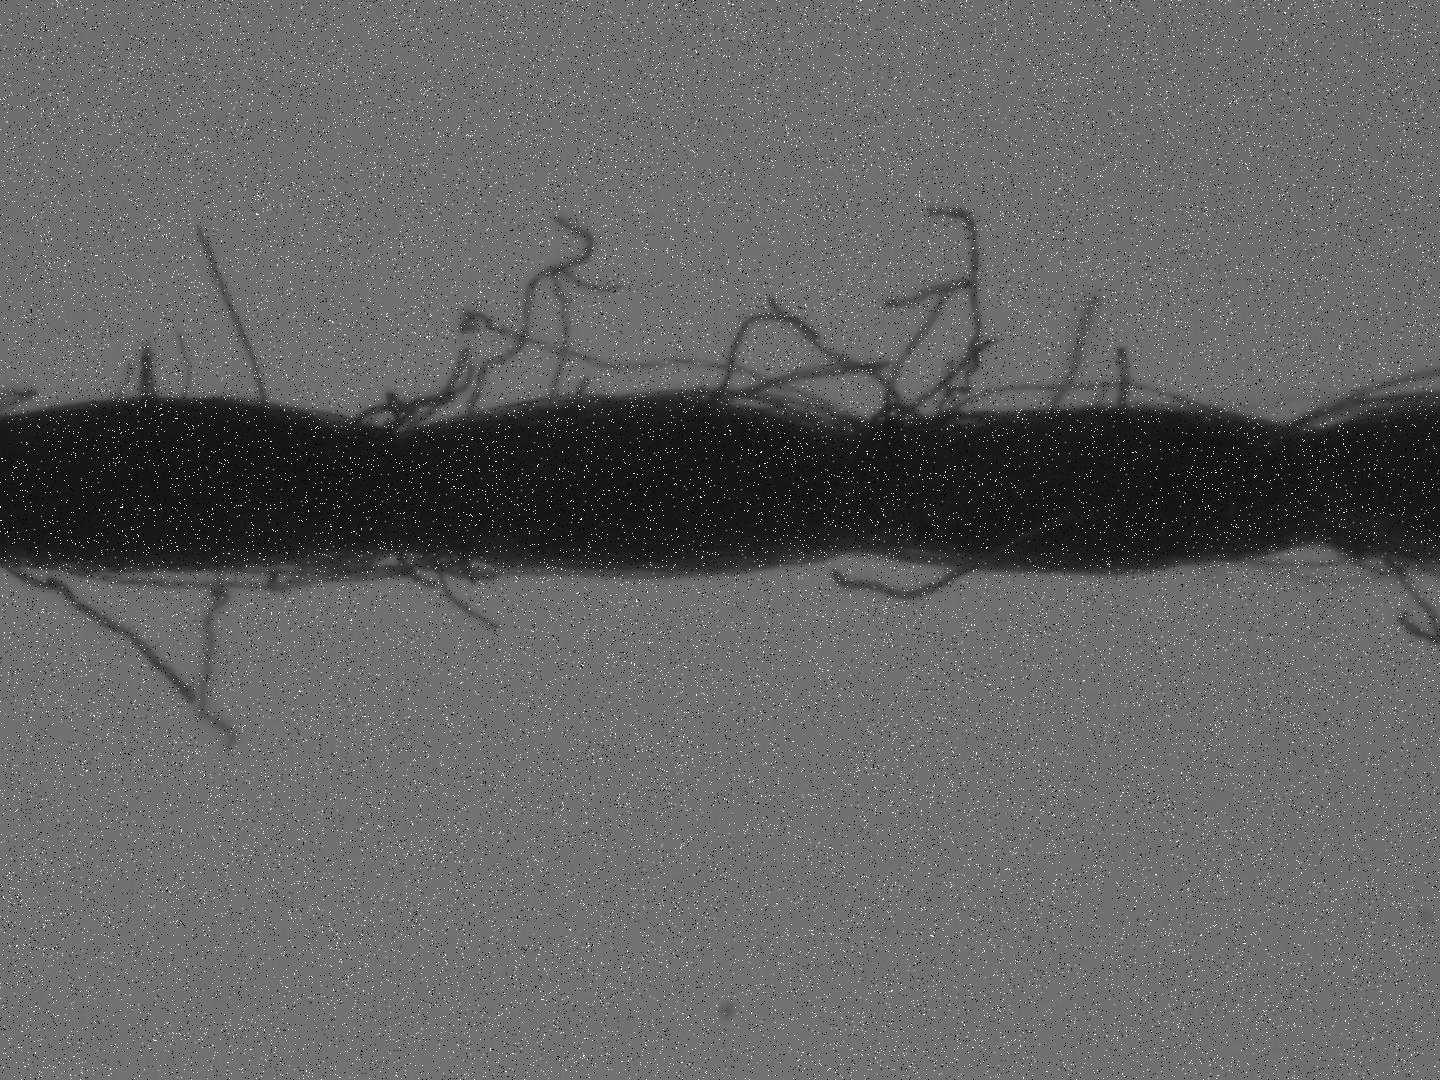loop_fiber: (677, 288, 938, 444), (45, 534, 497, 597), (942, 377, 1235, 414), (1286, 394, 1431, 434), (1245, 543, 1370, 567)
protruding_fiber: (189, 211, 277, 417), (828, 563, 989, 599), (576, 371, 590, 399)
